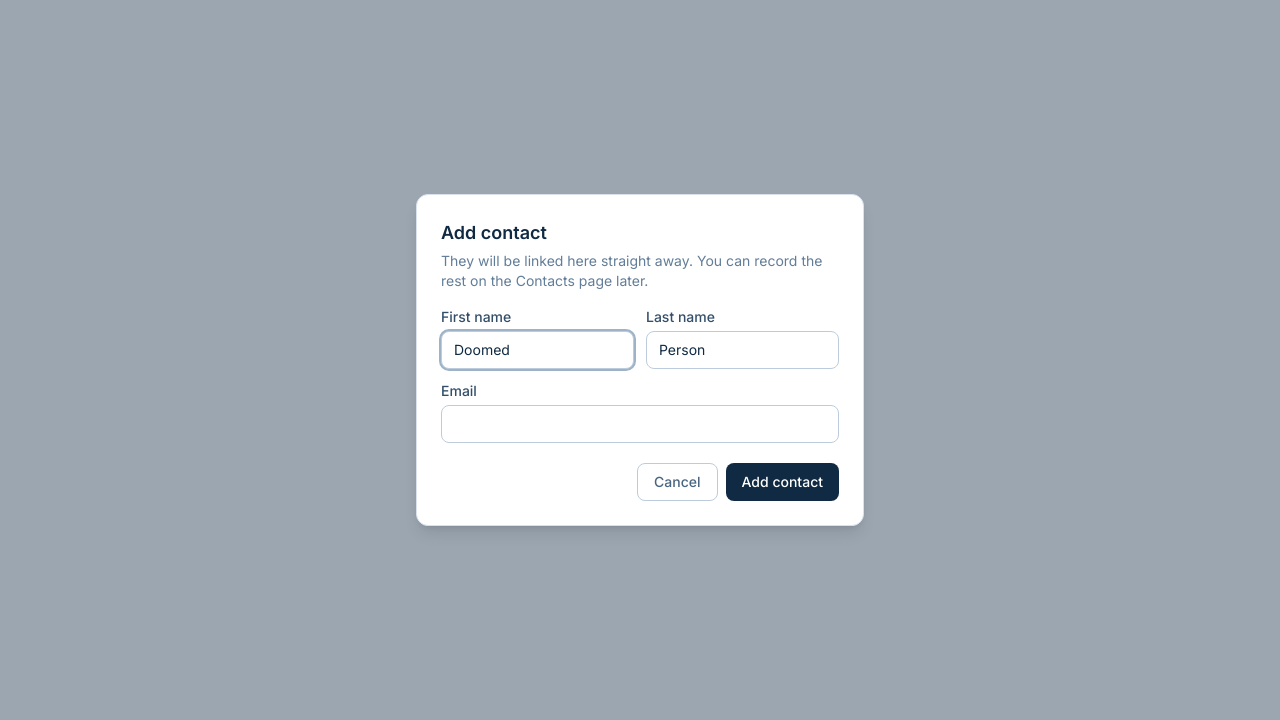
ContactQuickCreateModal › shows a rejected save as a message and creates nothing
Step 1. Click the button "Add contact" → coordinates (782, 482), box [726, 463, 839, 501]
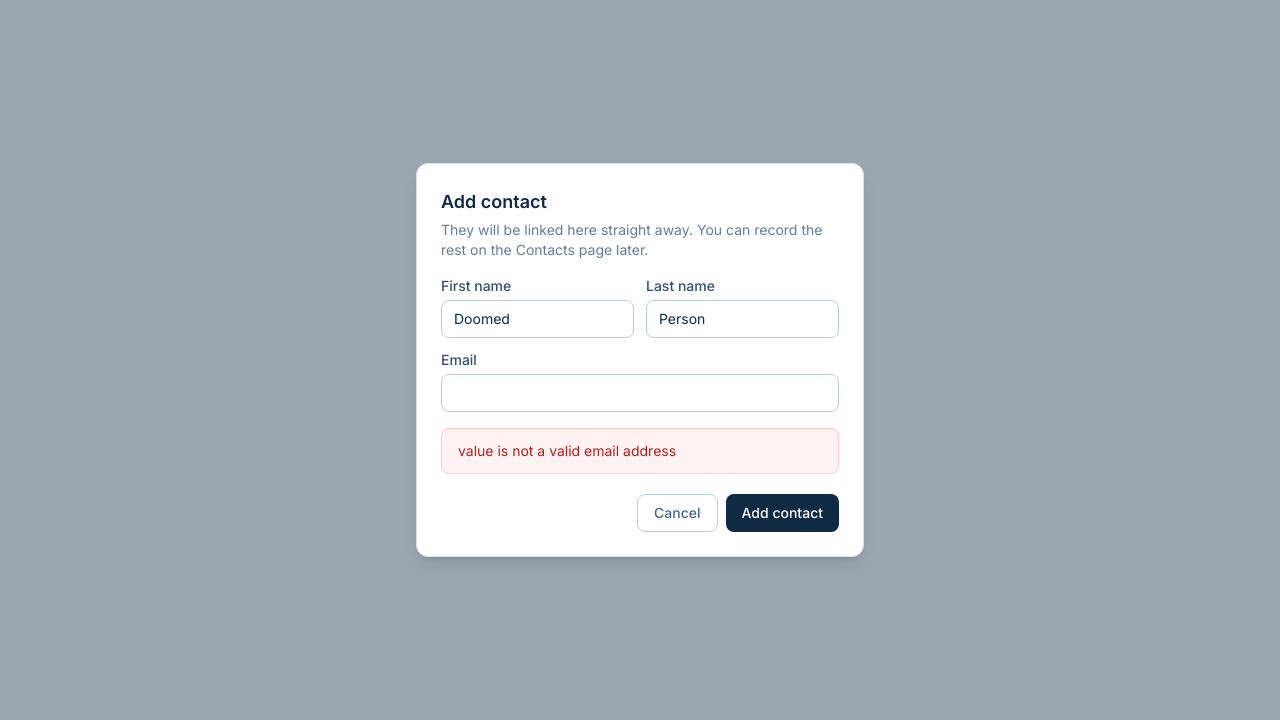
Expected: the text "value is not a valid email address" is shown, [441, 428, 839, 474]
